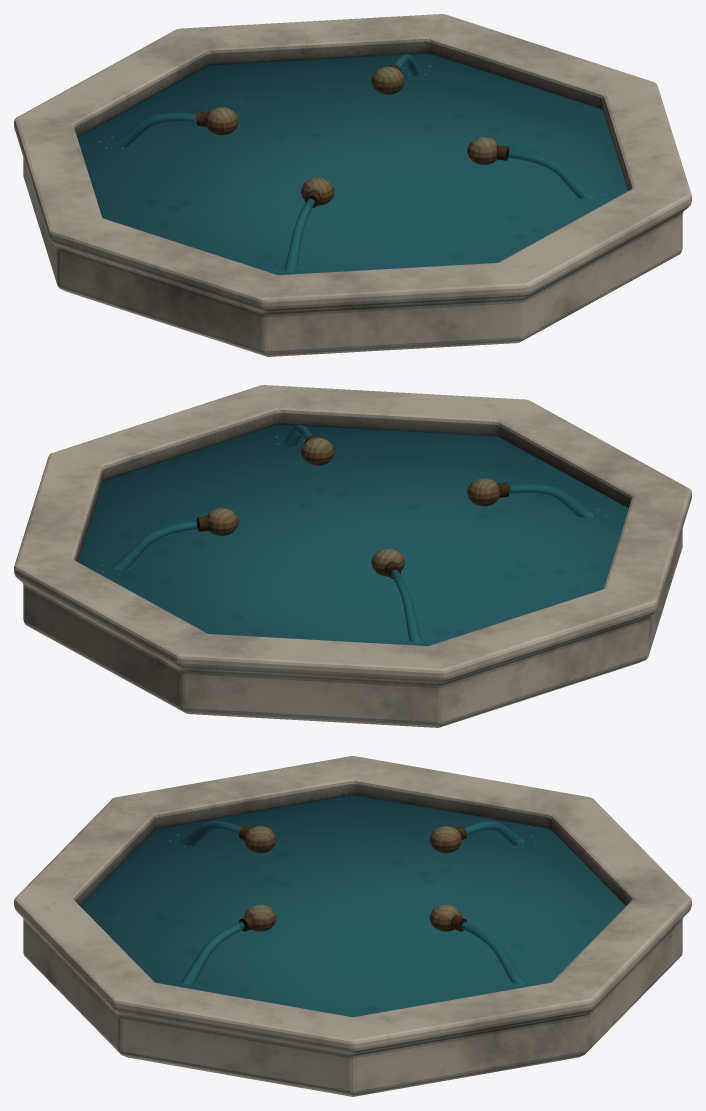
File: cenario_fonte_praca.glb
3 renders of one model, top to bottom at view 1: azimuth 30°, elevation 25°; view 2: azimuth 150°, elevation 25°; view 3: azimuth 270°, elevation 25°, orthographic. The views are drawn at different scales.
Visible parts, largest first — view 1: cenario_fonte_praca, agua, jato3, jato1, jato2; view 2: cenario_fonte_praca, agua, jato0, jato2, jato1; view 3: cenario_fonte_praca, agua, jato0, jato3, jato1, jato2.
Part boxes in pixels (<box>): cenario_fonte_praca: <box>14,14,691,356</box>; agua: <box>77,52,627,274</box>; jato3: <box>508,149,593,199</box>; jato1: <box>112,112,196,147</box>; jato2: <box>284,198,314,272</box>; cenario_fonte_praca: <box>14,385,691,727</box>; agua: <box>78,423,628,645</box>; jato0: <box>112,520,197,570</box>; jato2: <box>509,483,593,518</box>; jato1: <box>391,569,421,643</box>; cenario_fonte_praca: <box>14,756,691,1096</box>; agua: <box>80,794,625,1017</box>; jato0: <box>461,922,524,985</box>; jato3: <box>181,922,244,985</box>; jato1: <box>464,821,524,845</box>; jato2: <box>181,821,241,845</box>.
Size of the model in its own units: 5.79 by 0.912 by 5.79.
Materials: 26 (1 with a texture image).
